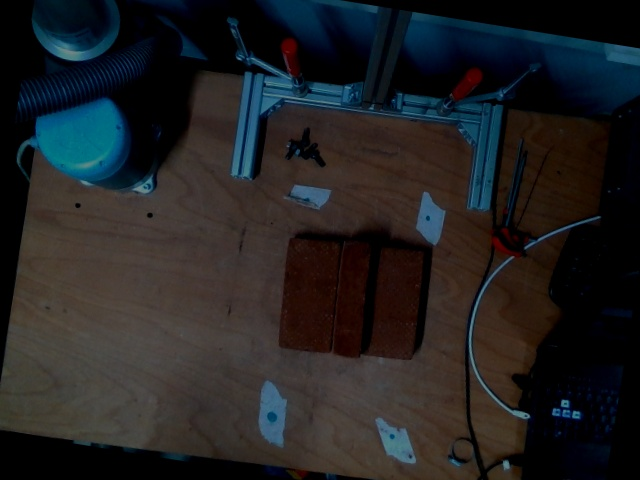brick: (277, 240, 340, 349), (364, 246, 423, 358)
brick-side: (333, 239, 372, 355)
